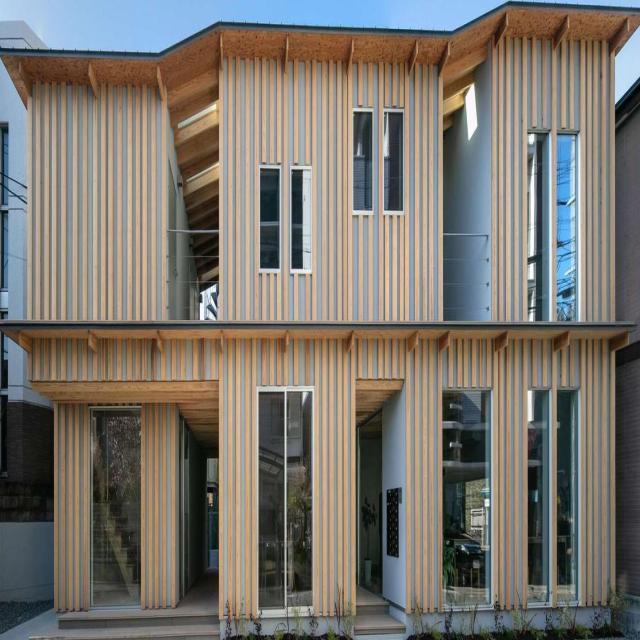Railing: (168, 226, 220, 328), (440, 233, 490, 322)
door: (256, 384, 316, 623)
wall: (0, 2, 640, 639)
windows: (441, 385, 491, 610), (92, 404, 142, 606), (528, 389, 549, 604), (558, 388, 578, 604), (527, 133, 549, 319), (556, 136, 576, 324), (290, 166, 312, 273), (259, 166, 281, 272), (352, 109, 374, 214), (384, 108, 405, 215)
